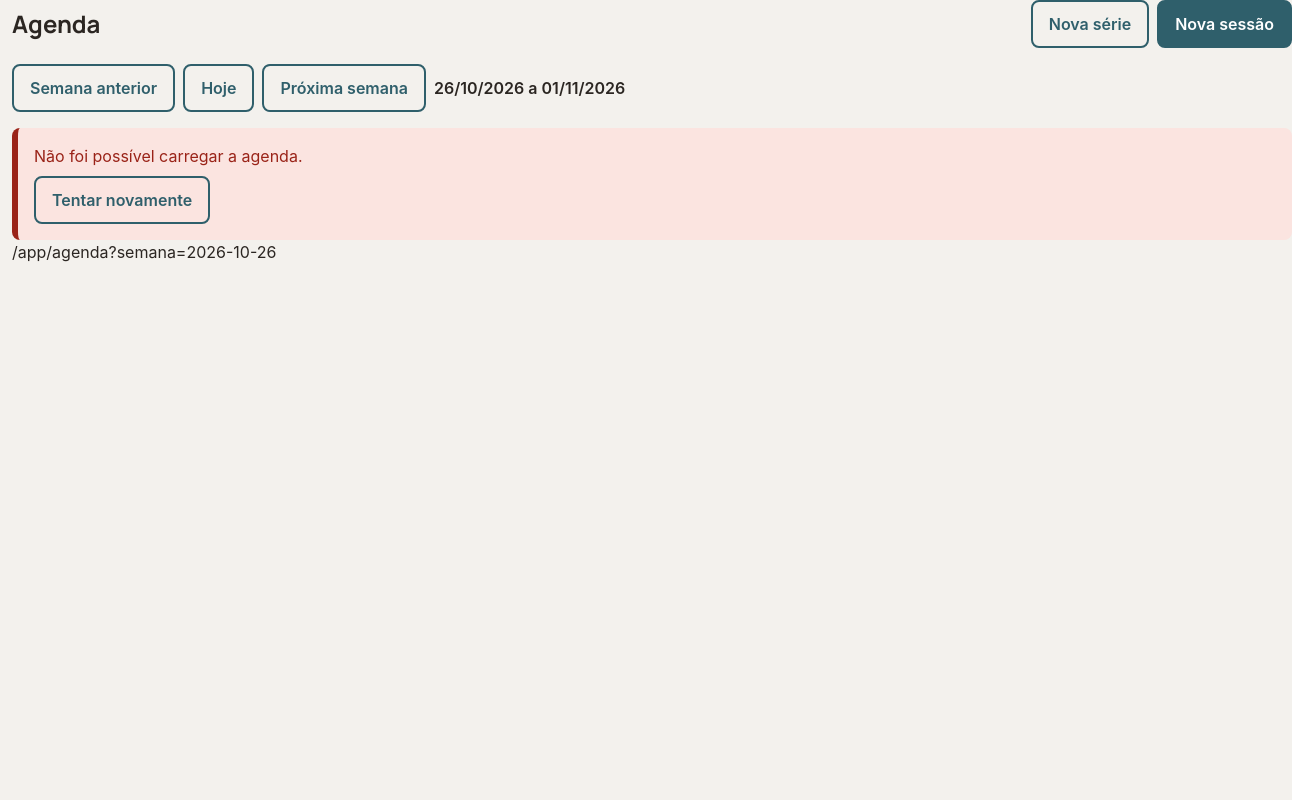
it: Agenda da semana (AGE-03) › erro ao carregar com nova tentativa
This screenshot has width=1292, height=800.
Expected: the text "Não foi possível carregar a agenda." is shown, [34,146,302,166]
Click the button "Tentar novamente": click(122, 200) [34,176,210,224]
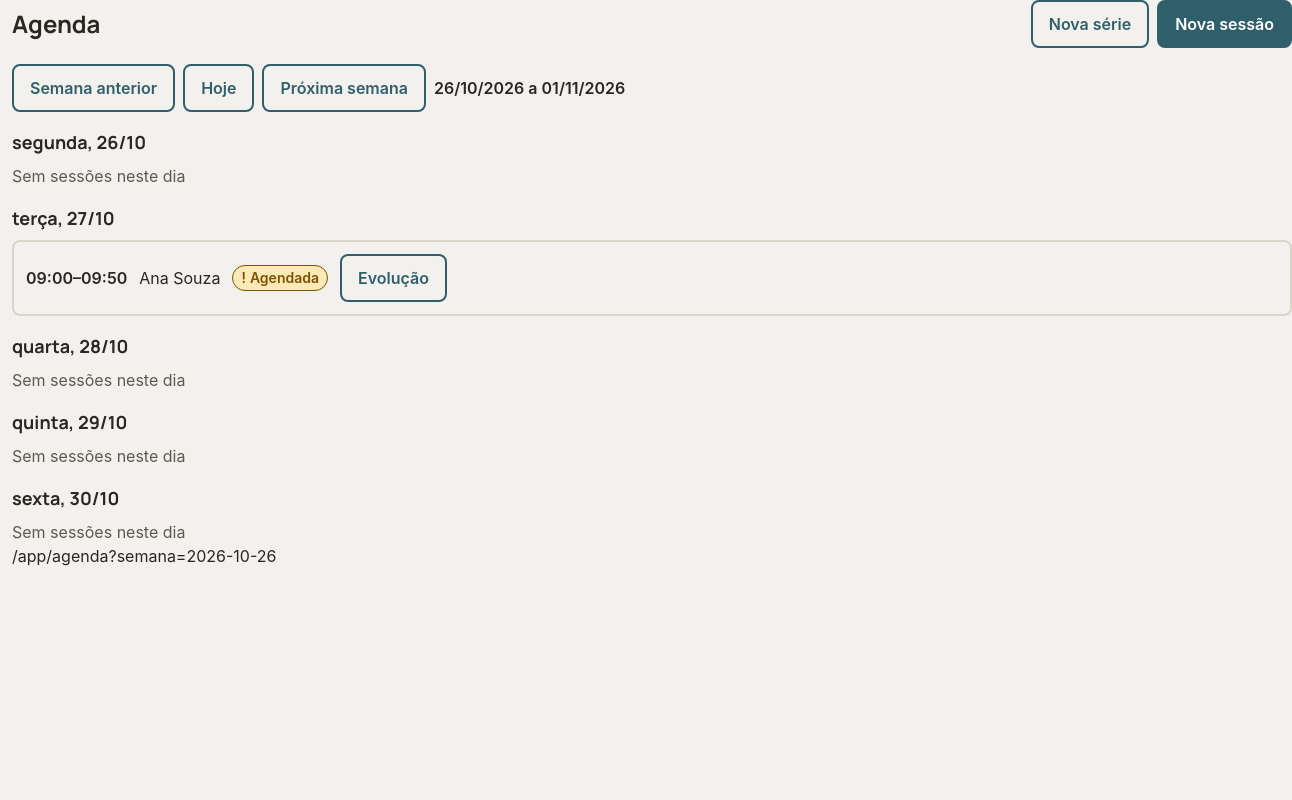
Expected: the text "09:00–09:50" is shown, [26,266,127,290]
